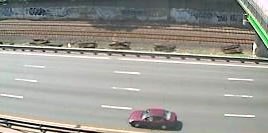car: (127, 107, 179, 133)
